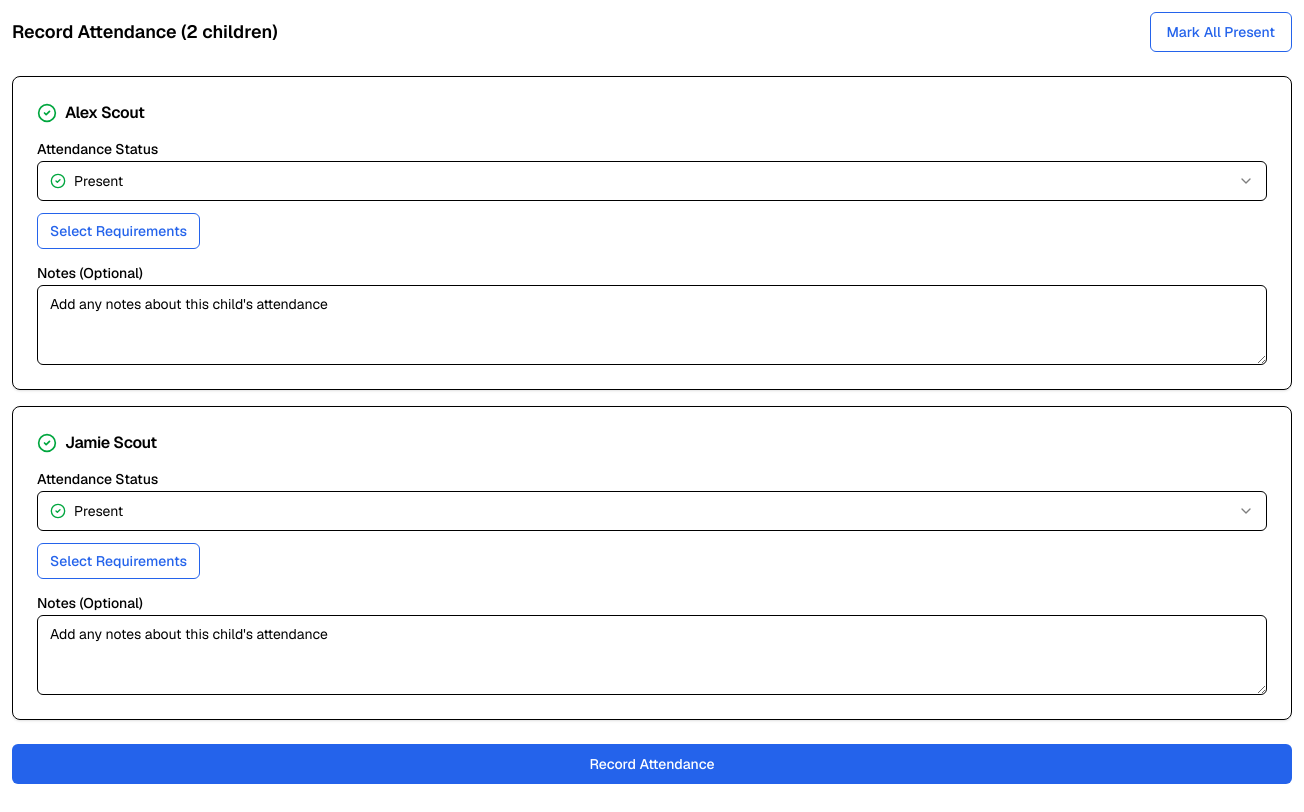
Scenario: AttendanceForm › submits default present attendance payload for all children
Click the button "Record Attendance". click: x=652, y=764
box: [12, 744, 1292, 784]
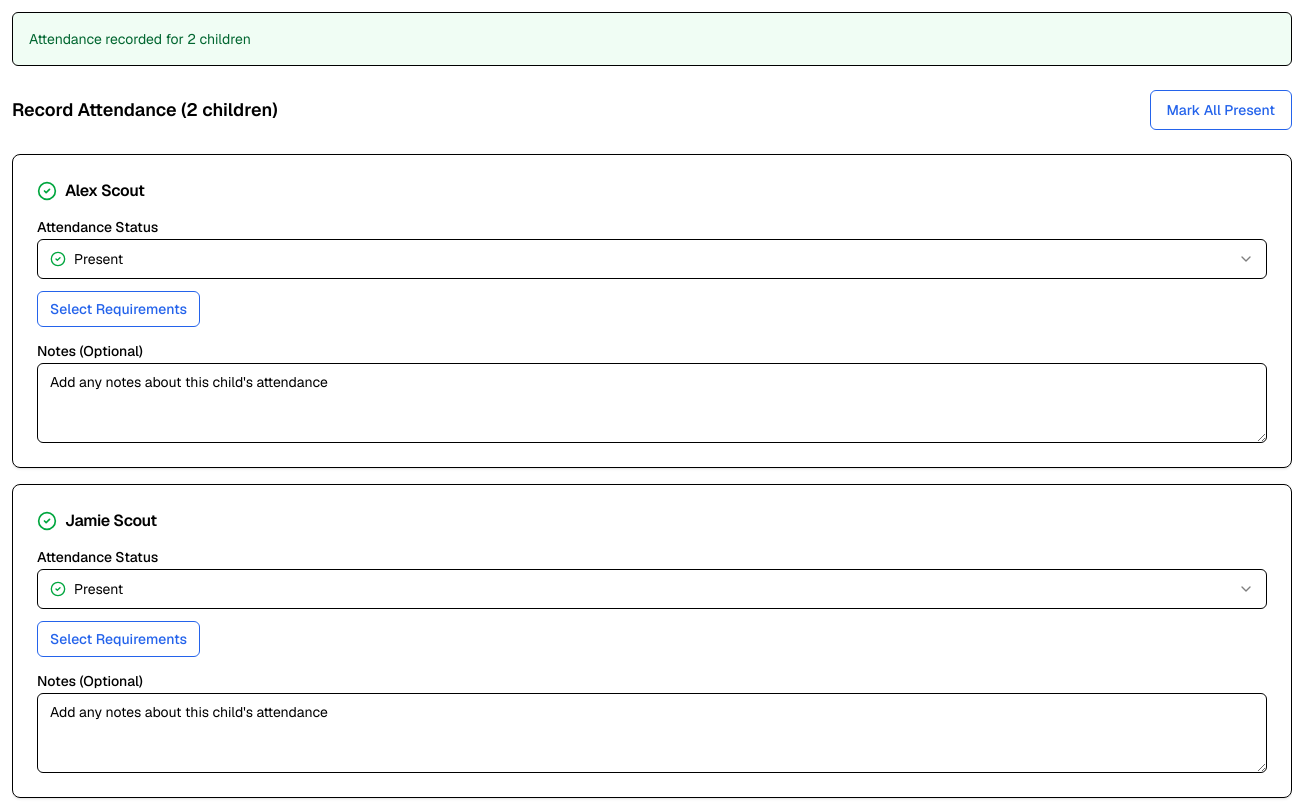
Expected: the text "Attendance recorded for 2 children" is shown, [29, 30, 251, 48]
